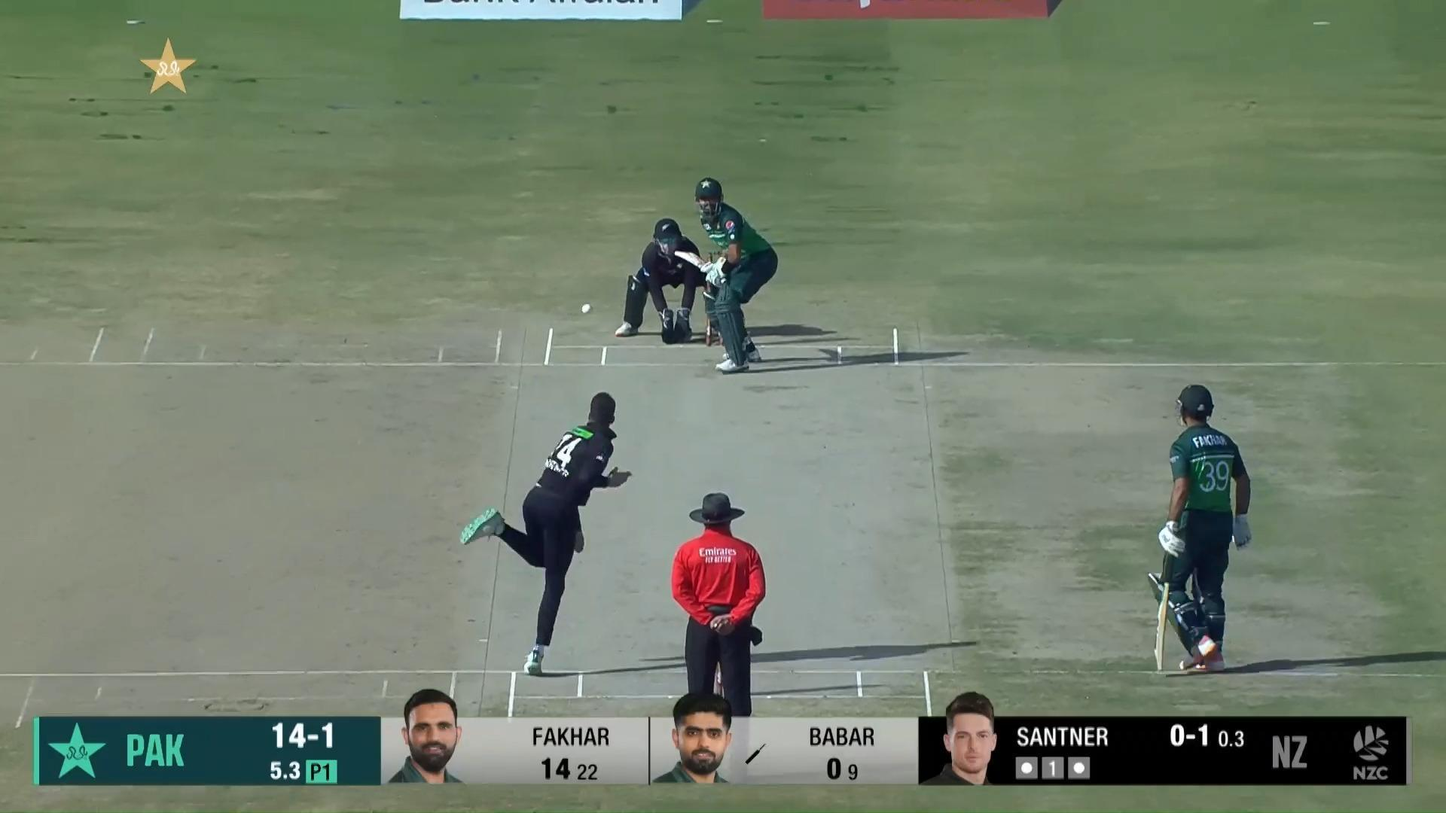BM 1: (674, 177, 778, 373)
BO: (460, 391, 634, 675)
